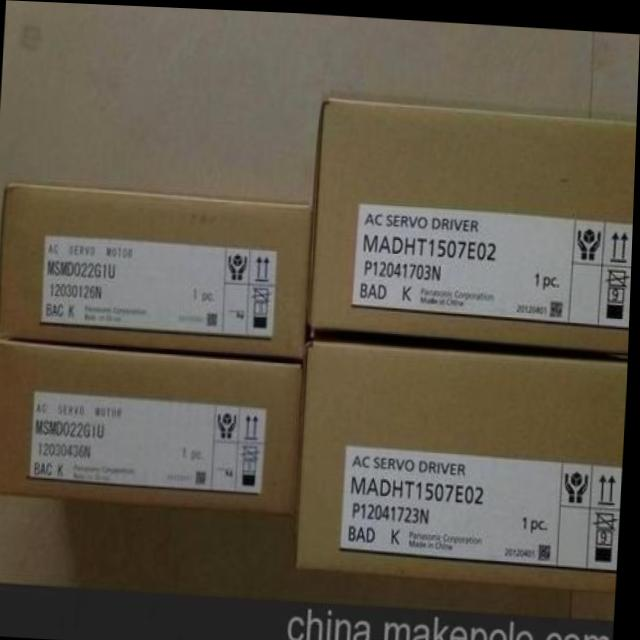box: (309, 95, 637, 345), (300, 339, 630, 584), (0, 181, 314, 356), (0, 340, 308, 513)
